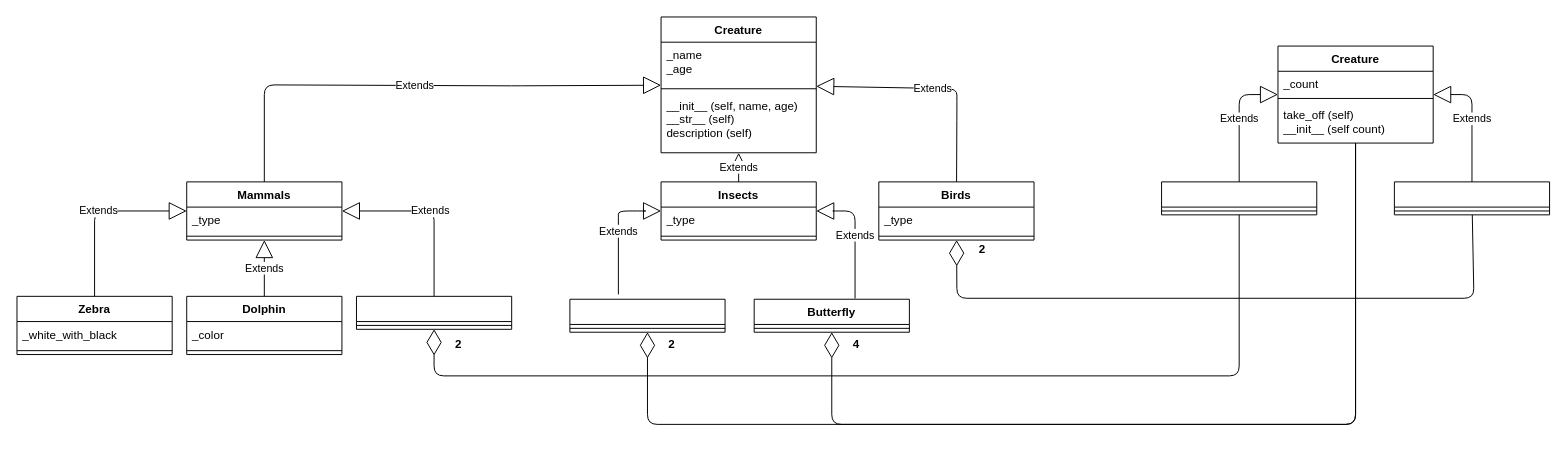
The diagram is 1567 pixels wide and 467 high, and some of its shapes have lost their labels. Here are the shapes that lost their labels. From the top down, the centre of each, then its label:
pixel 1239 198: WebbedWing
pixel 1471 198: OverstuffedWing
pixel 434 312: Bat
pixel 647 315: Bee
